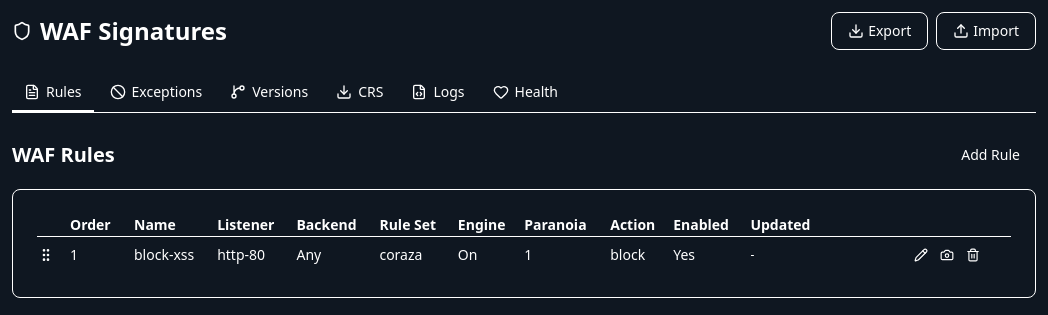
it: Waf page › renders the Versions tab with max editor
Check: the heading "WAF Signatures" is shown, box [12,15,227,47]
Click the button "Versions": (269, 93) [218,74,320,112]
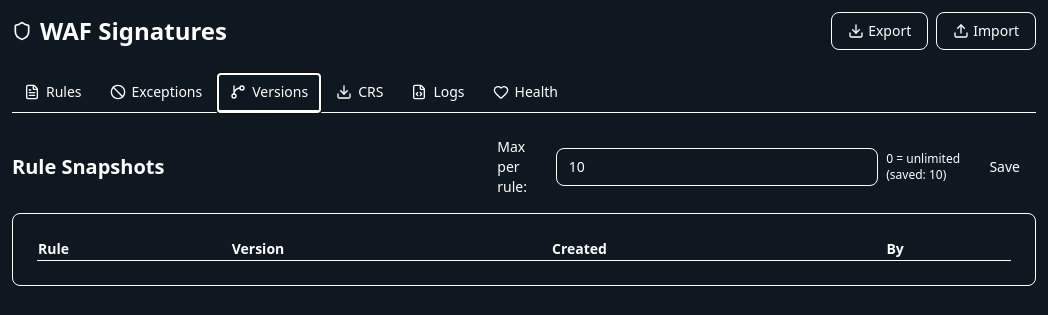
Check: the heading "Rule Snapshots" is shown, box [12,153,164,181]
Check: the number field with placeholder "10" is shown, box [556,148,878,186]
Check: the text "0 = unlimited (saved: 10)" is shown, box [886,151,966,183]
